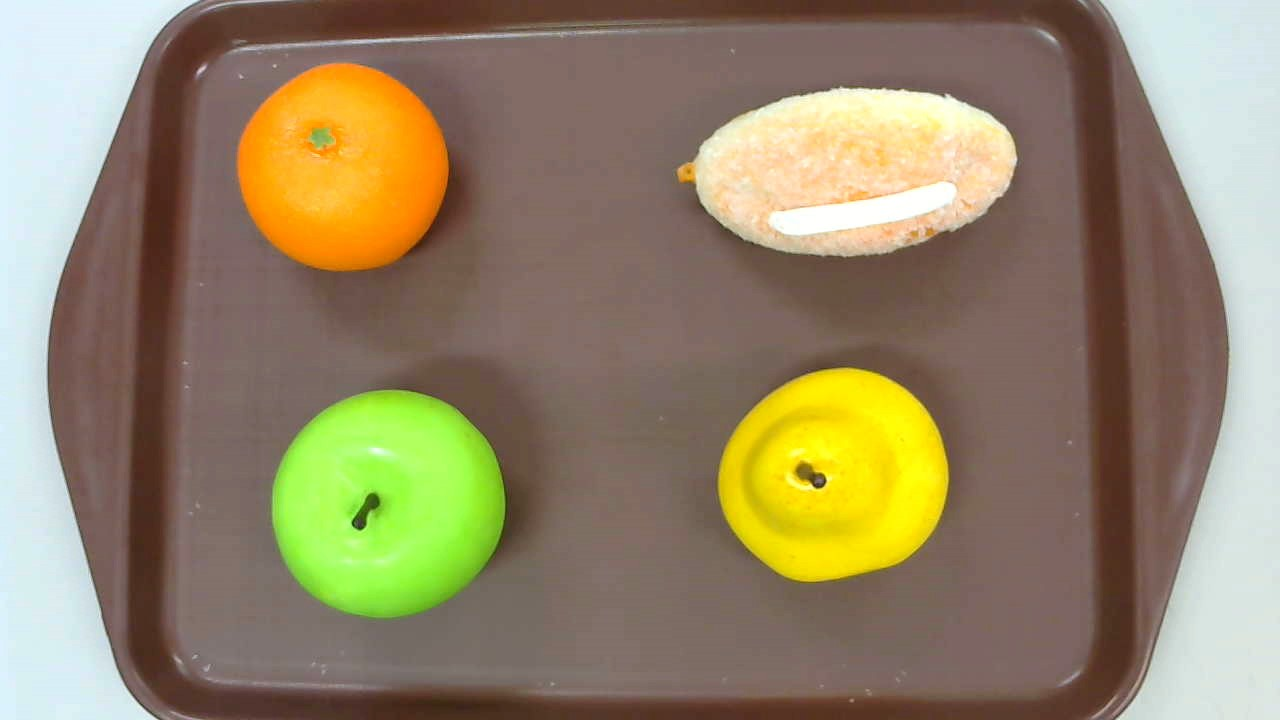coconut: (674, 87, 1016, 259)
green apple: (270, 390, 505, 618)
orange: (234, 62, 448, 275)
yellow pear: (716, 366, 948, 582)
